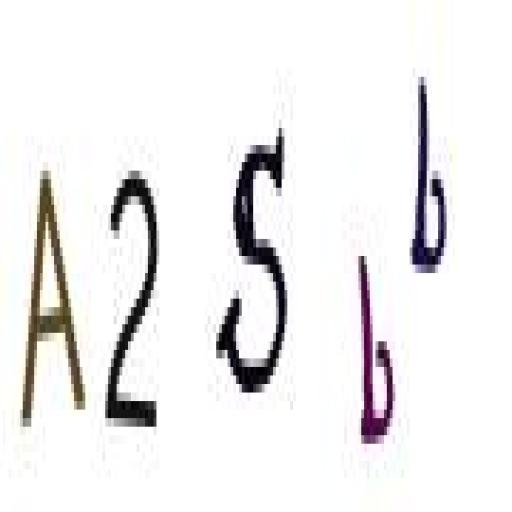2: (103, 156, 165, 446)
A: (16, 149, 96, 438)
S: (216, 124, 295, 408)
b: (352, 232, 400, 457), (408, 70, 452, 282)
